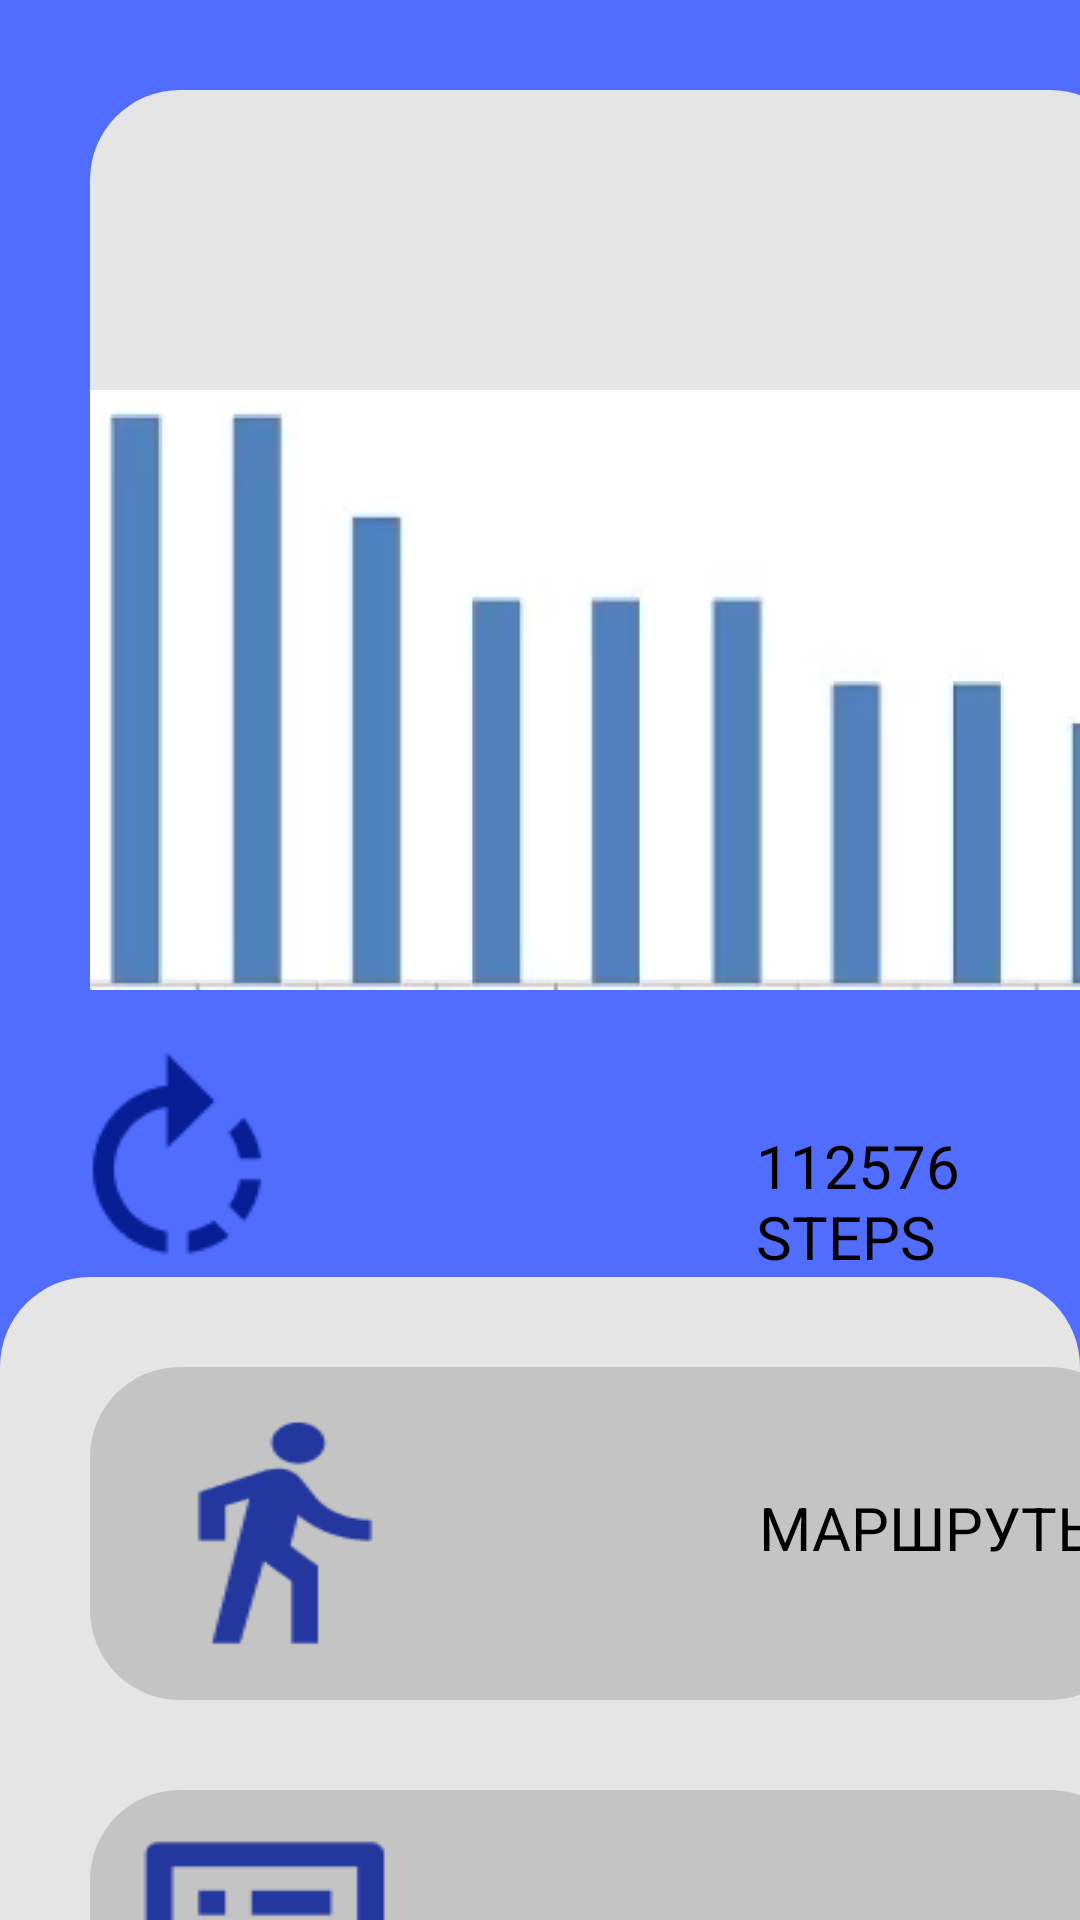

Screen size 1080x1920. Icon name, then its center in pixels as (x,y):
reloud: (177,1154)
